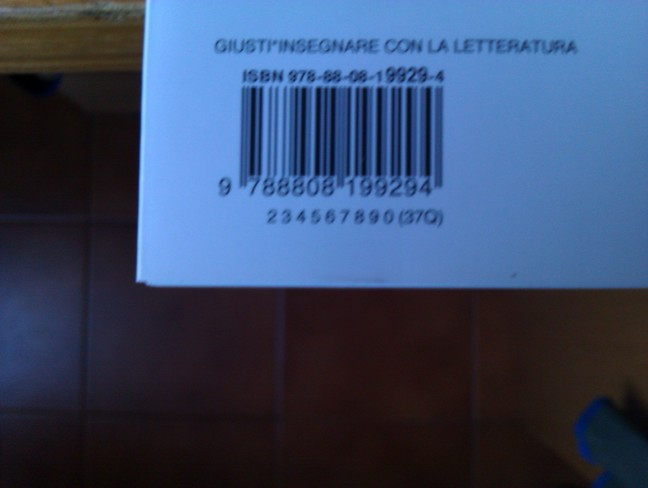detection: (200, 86, 464, 198)
